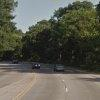Tree: (34, 7, 100, 60)
